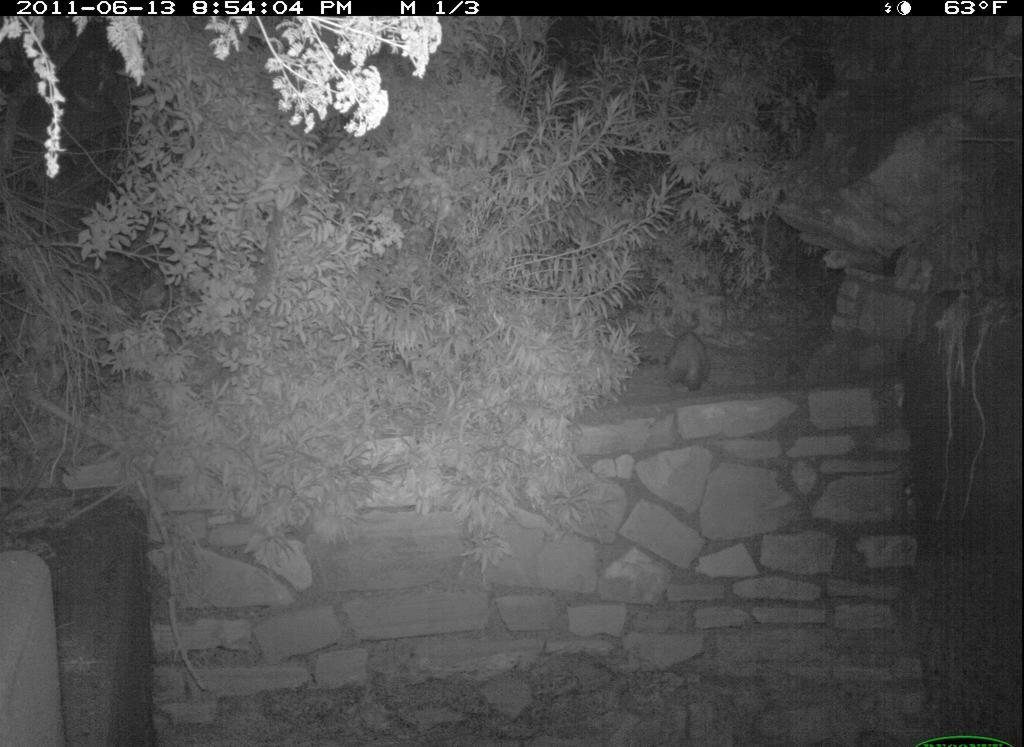opossum: (656, 312, 724, 400)
